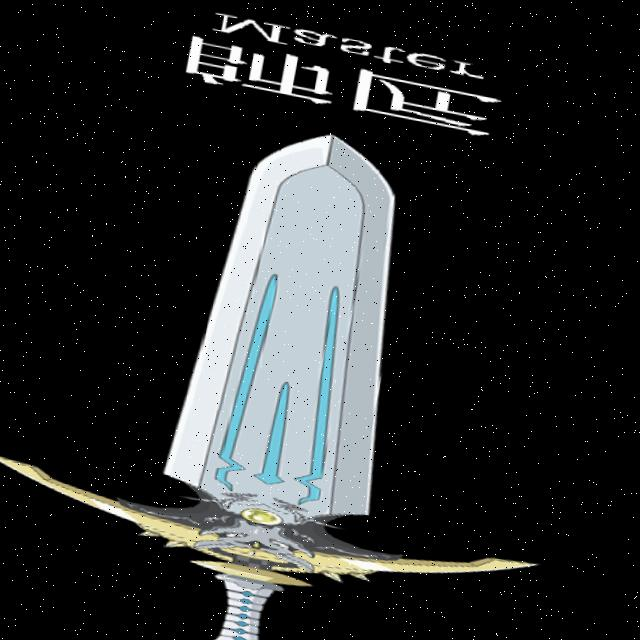knife: (0, 59, 638, 640)
